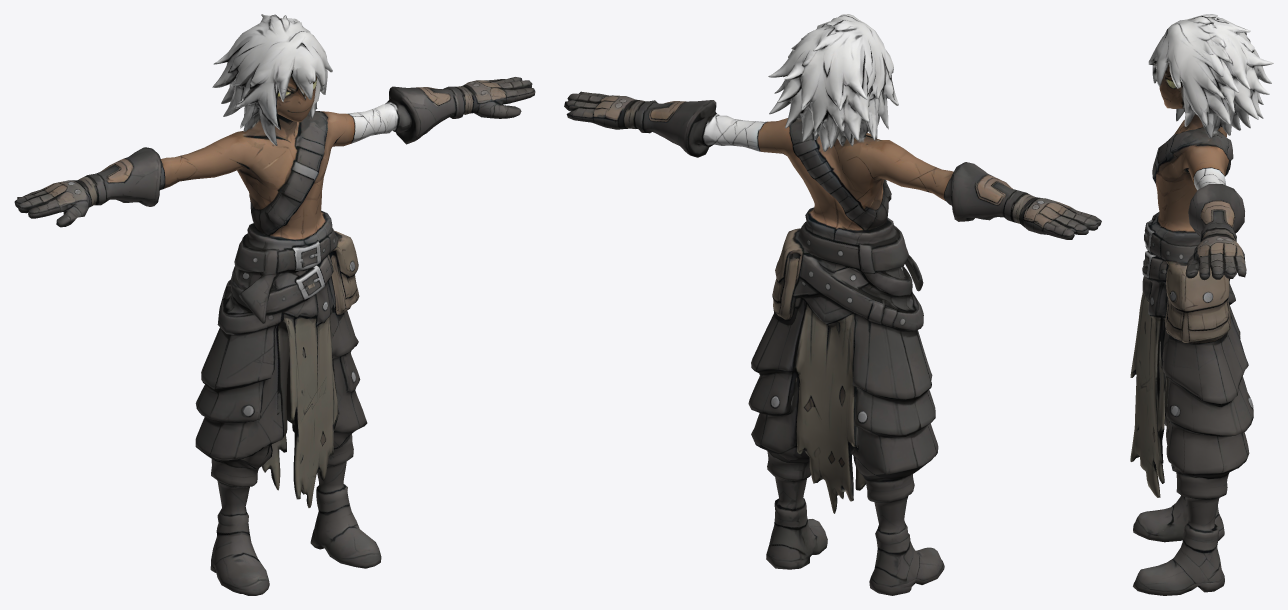
3 renders of one model, left to right at view 1: azimuth 30°, elevation 25°; view 2: azimuth 150°, elevation 25°; view 3: azimuth 270°, elevation 25°, orthographic. The views are drawn at different scales.
Parts seen in each view (by area): view 1: tripo_node_272903fa-f299-44ed-9b7f-da7b386d4b4c; view 2: tripo_node_272903fa-f299-44ed-9b7f-da7b386d4b4c; view 3: tripo_node_272903fa-f299-44ed-9b7f-da7b386d4b4c.
Boxes of the visible parts, box(x1,y1,x2,y2) form: tripo_node_272903fa-f299-44ed-9b7f-da7b386d4b4c: box(14, 14, 535, 595); tripo_node_272903fa-f299-44ed-9b7f-da7b386d4b4c: box(564, 14, 1101, 595); tripo_node_272903fa-f299-44ed-9b7f-da7b386d4b4c: box(1130, 14, 1273, 595).
Bounding box in the file's own units: 0.9722 × 0.9742 × 0.2331.
Materials: 1 (1 with a texture image).
